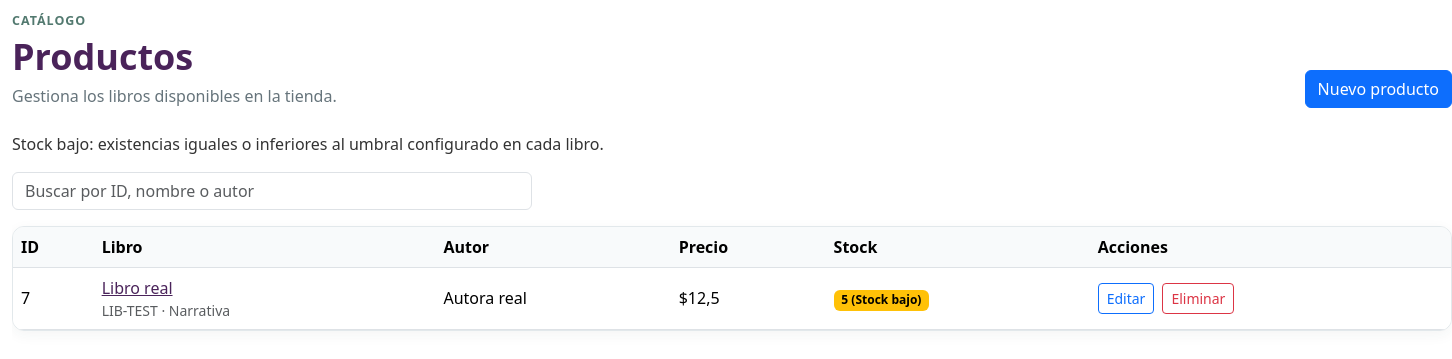
Test case: Productos mediante Gateway › lista y busca los libros reales y muestra stock bajo inclusivo
expect the text "5 (Stock bajo)" is shown: met, box [834, 290, 929, 310]
Note: Nota de lectura: Invoca la operación indicada con los argumentos de este bloque.
In the field named "Buscar productos": (272,191) [12, 172, 532, 210], type " inexistente "
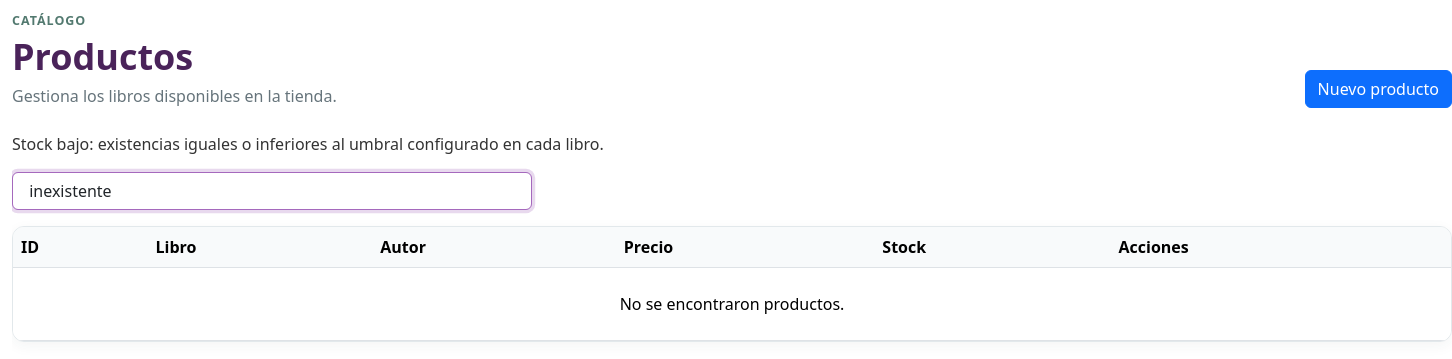
expect the text "No se encontraron productos." is shown: met, box [13, 267, 1451, 340]
